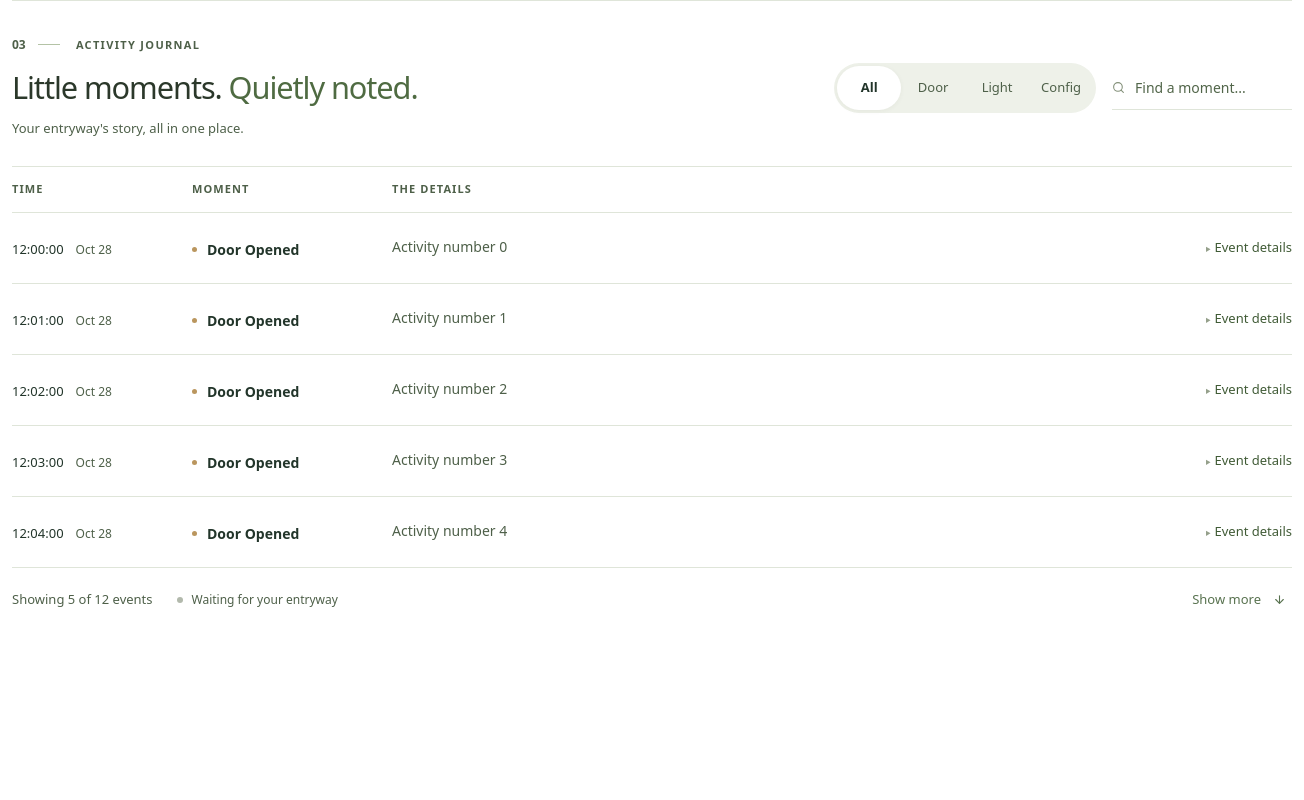
Test: Activity progressive disclosure › resets the limit on filtering and searches all loaded events
Click the button "Show more" at (1239,600), box [1186, 578, 1292, 622]
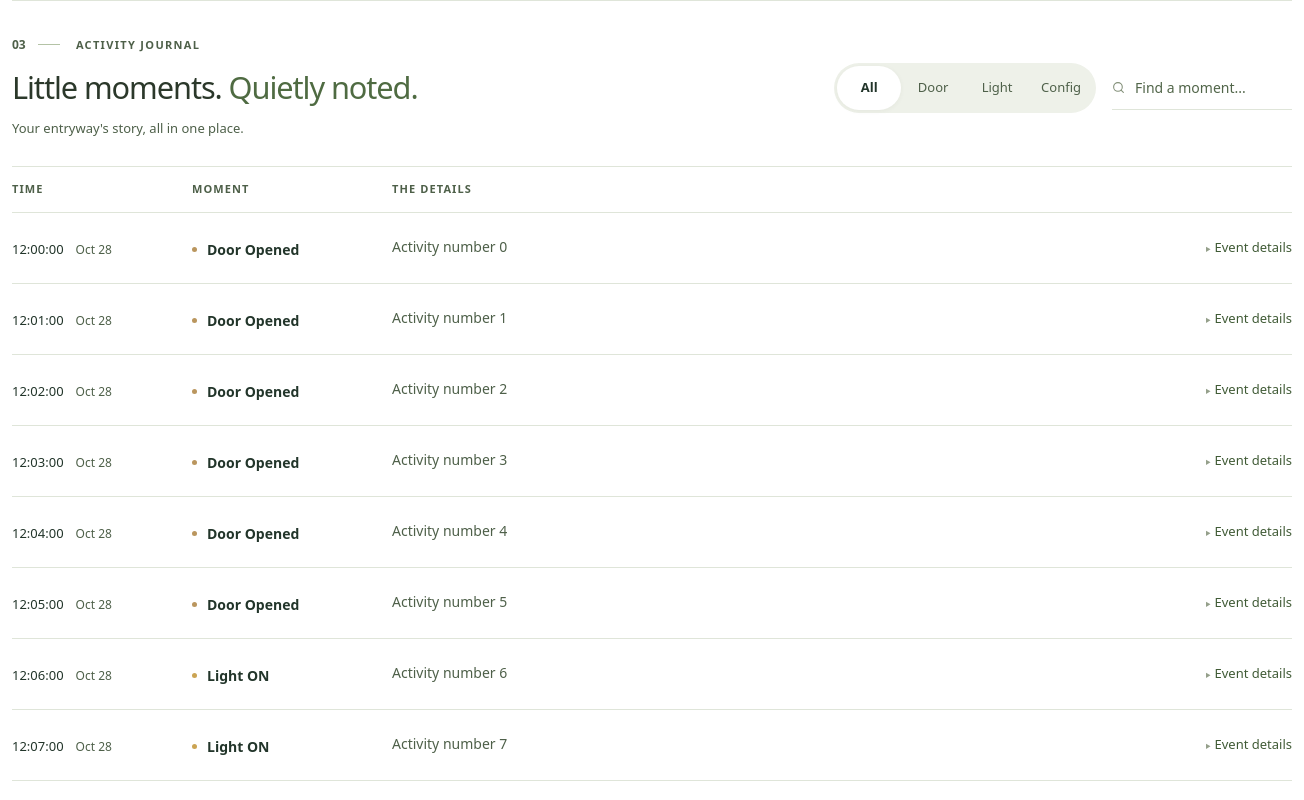
Click the button "Light" at (997,88), box [965, 66, 1029, 110]
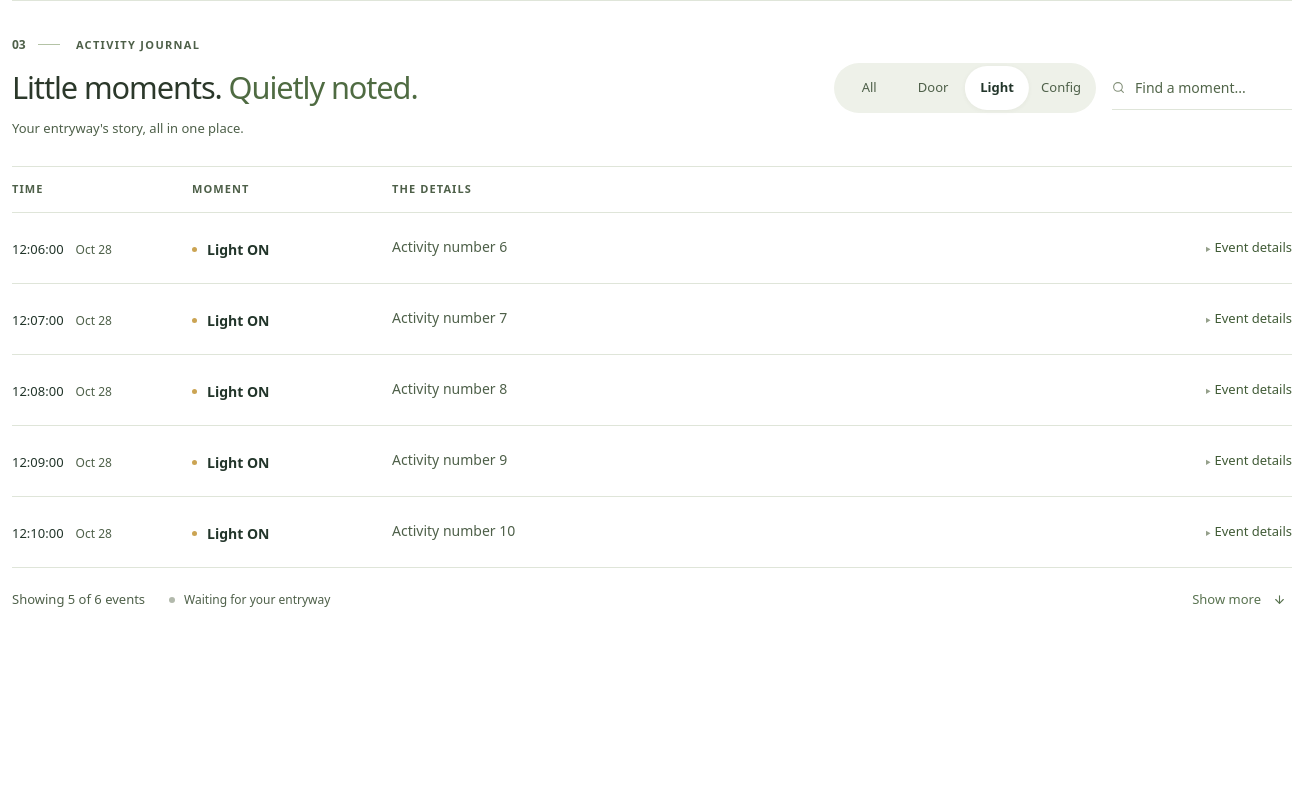
Expected: the text "Showing 5 of 6 events" is shown, [12, 590, 145, 610]
Type "Activity number 11" into the field named "Filter events" at (1202,88), box [1112, 66, 1292, 110]
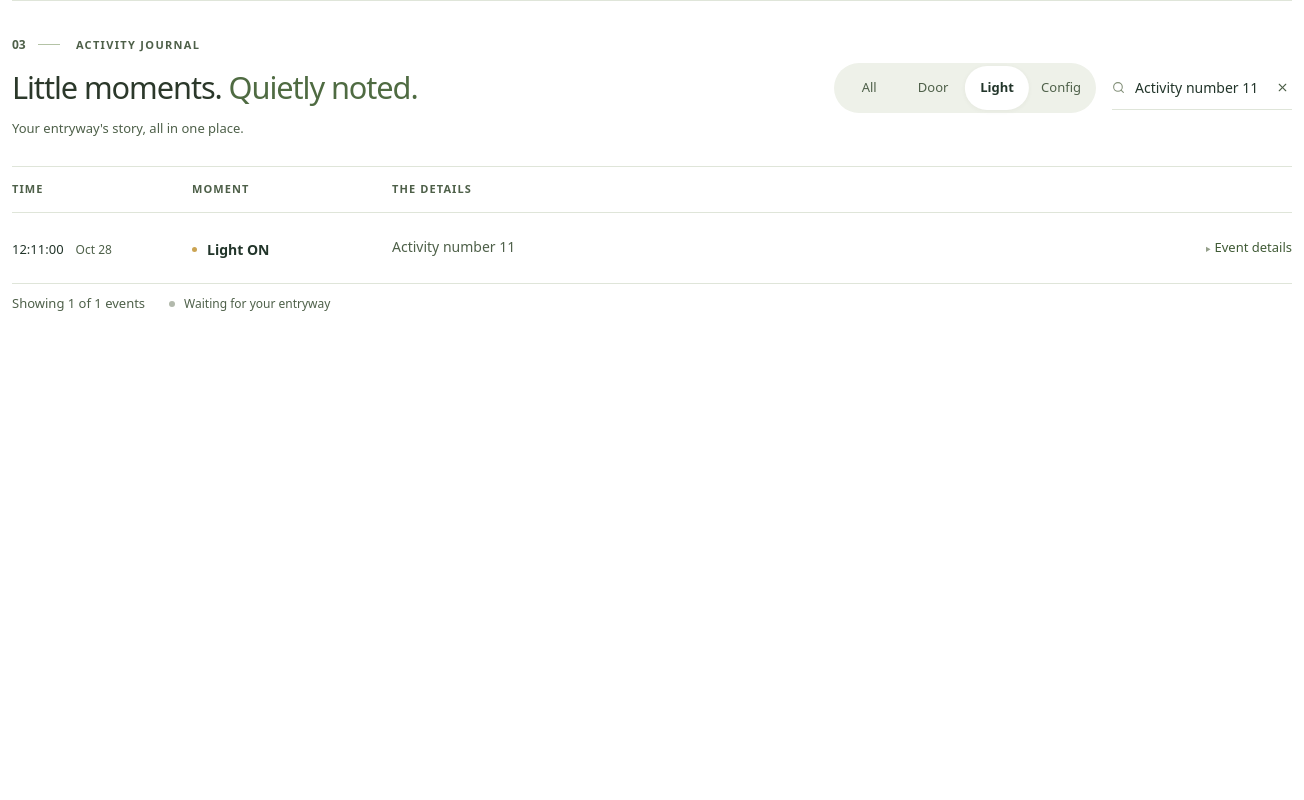
Expected: the text "Activity number 11" is shown, [392, 237, 515, 256]
Expected: the text "Showing 1 of 1 events" is shown, [12, 294, 145, 313]
Expected: the button "Show more" is gone
